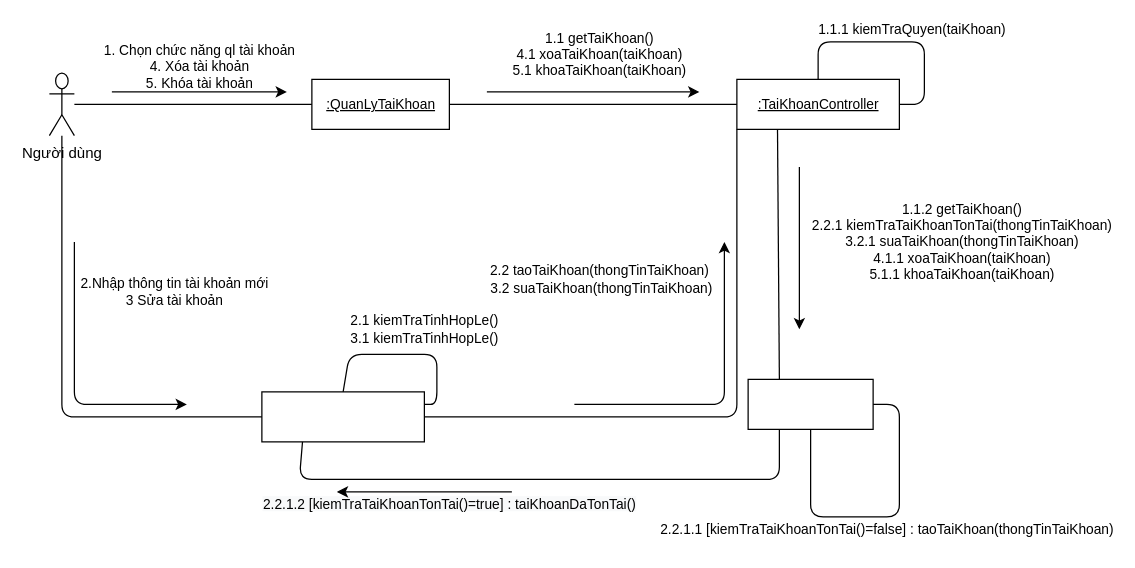
Some shapes in this 1135 by 568 pixel diagram are drawn without their labels. The centre of each missing label's shape, as x and y in pixels:
":FormTaiKhoan" belongs at point (342, 416).
":TaiKhoanEntity" belongs at point (810, 403).
